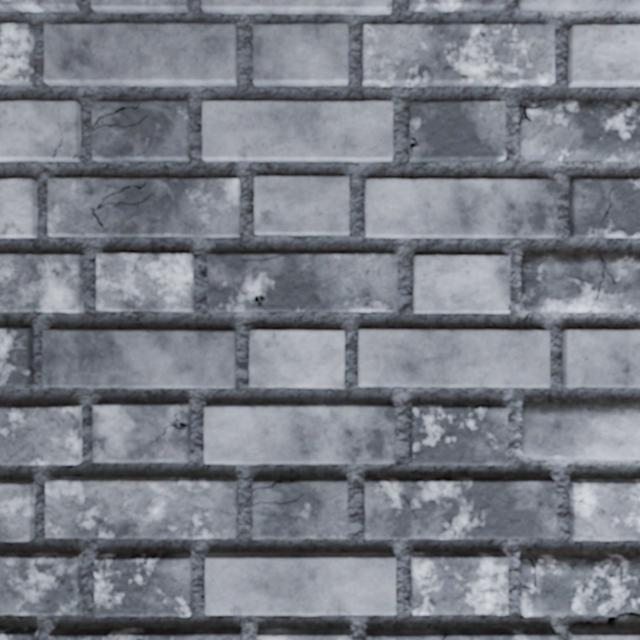brick: (44, 23, 236, 85), (363, 24, 553, 85), (205, 553, 395, 614), (45, 477, 237, 537), (364, 478, 555, 538), (203, 101, 392, 160), (43, 329, 235, 387), (48, 178, 239, 236), (365, 179, 556, 237), (204, 404, 394, 462), (358, 329, 548, 386), (208, 254, 396, 310), (521, 402, 639, 460), (94, 554, 191, 615), (411, 552, 507, 613), (253, 24, 347, 85), (253, 477, 347, 538), (92, 101, 189, 160), (409, 101, 504, 161), (411, 406, 507, 464), (93, 403, 189, 461), (97, 253, 193, 310), (413, 255, 509, 312), (255, 176, 348, 234), (249, 330, 343, 387), (0, 552, 81, 613), (0, 101, 80, 160), (0, 405, 81, 463), (0, 254, 82, 311), (568, 25, 639, 86), (563, 330, 639, 386), (570, 480, 639, 539), (570, 179, 639, 237), (202, 0, 390, 13), (0, 179, 37, 237), (49, 628, 241, 639), (366, 628, 556, 639), (0, 23, 33, 84), (0, 481, 34, 540), (0, 328, 33, 384), (517, 0, 639, 11), (91, 0, 187, 12), (409, 0, 504, 10), (257, 629, 350, 639), (0, 0, 79, 11), (568, 629, 639, 639), (0, 627, 37, 639)
broken_brick: (519, 553, 639, 617), (518, 99, 639, 162), (520, 253, 639, 313), (518, 108, 520, 120)
crack: (565, 610, 639, 639), (91, 102, 147, 131), (595, 254, 617, 300), (155, 412, 189, 441), (252, 493, 304, 506), (518, 103, 543, 124), (252, 479, 293, 491), (240, 253, 286, 261), (409, 137, 419, 151), (409, 101, 426, 106), (549, 215, 556, 222), (53, 633, 59, 639), (505, 303, 510, 310), (442, 633, 447, 639), (45, 504, 52, 508), (74, 634, 78, 639)
